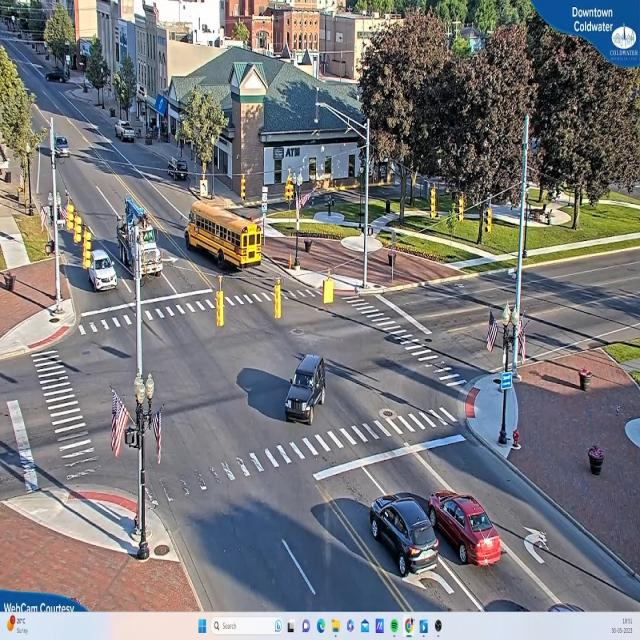bus: (188, 199, 264, 270)
car: (368, 493, 442, 577), (427, 491, 506, 568), (287, 354, 326, 425), (89, 250, 119, 292), (117, 122, 137, 145), (55, 136, 71, 155), (47, 70, 67, 82)
truck: (119, 196, 160, 284)
